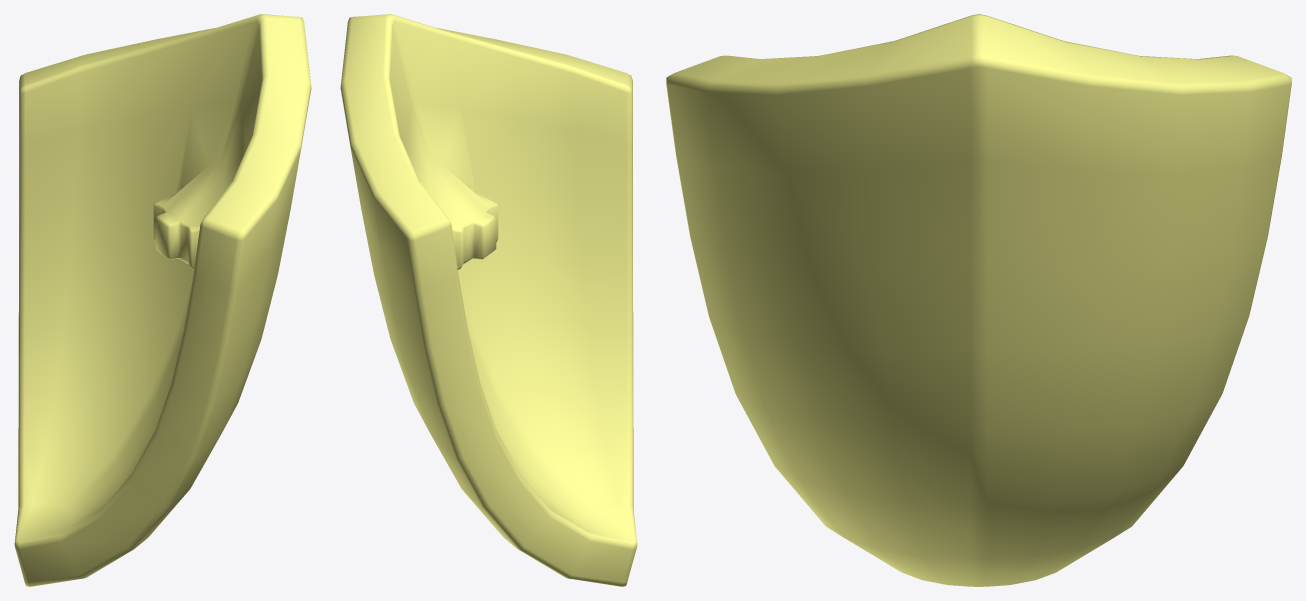
The model's file is Unit_Armor_HelmetC.FBX.
3 renders of one model, left to right at view 1: azimuth 30°, elevation 25°; view 2: azimuth 150°, elevation 25°; view 3: azimuth 270°, elevation 25°, orthographic. The views are drawn at different scales.
Visible parts, largest first — view 1: Unit_Armor_HelmetC; view 2: Unit_Armor_HelmetC; view 3: Unit_Armor_HelmetC.
Part boxes in pixels (left/top/right/bottom): Unit_Armor_HelmetC: left=14, top=14, right=311, bottom=586; Unit_Armor_HelmetC: left=340, top=14, right=637, bottom=586; Unit_Armor_HelmetC: left=666, top=14, right=1291, bottom=586.
Bounding box in the file's own units: 13.03 × 22.27 × 17.34.
